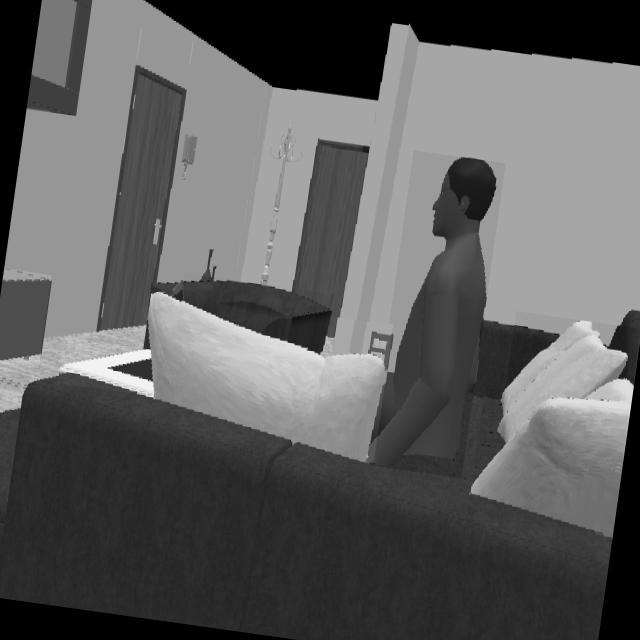cabinet: (27, 0, 92, 114), (0, 270, 50, 361)
person: (371, 161, 496, 467)
pillow: (150, 293, 385, 462), (471, 400, 629, 535), (499, 323, 632, 444)
sofa: (183, 283, 331, 352)
table: (60, 350, 154, 396)
